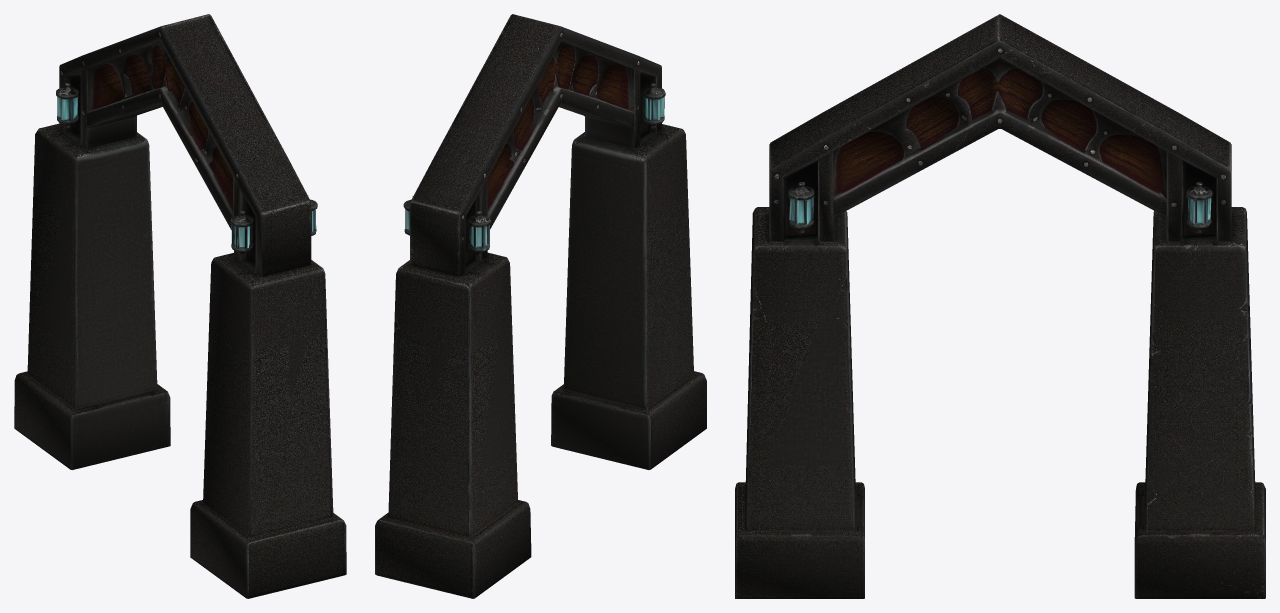
The model's file is tripo_convert_0eb48092-b616-4fc3-ad6d-fa3807f3d40f.fbx.
3 renders of one model, left to right at view 1: azimuth 30°, elevation 25°; view 2: azimuth 150°, elevation 25°; view 3: azimuth 270°, elevation 25°, orthographic. The views are drawn at different scales.
Parts seen in each view (by area): view 1: tripo_node_0eb48092; view 2: tripo_node_0eb48092; view 3: tripo_node_0eb48092.
Part boxes in pixels (box(x1,y1,x2,y2)): tripo_node_0eb48092: box(14, 14, 346, 598); tripo_node_0eb48092: box(375, 14, 706, 598); tripo_node_0eb48092: box(735, 14, 1265, 598).
Bounding box in the file's own units: 0.2168 × 0.998 × 0.877.
Materials: 1 (1 with a texture image).
